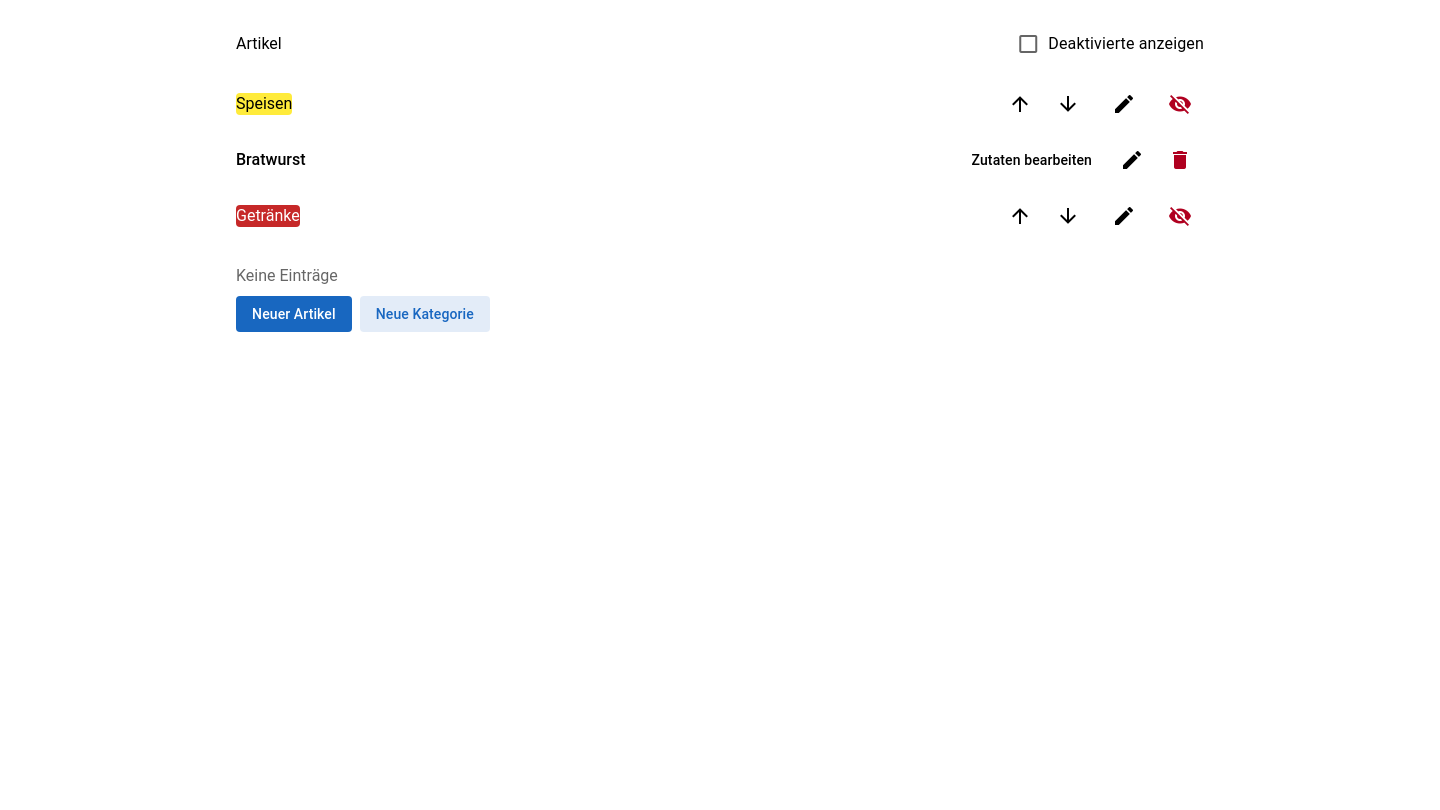
Test case: the controls beside a category name › ask before the category is switched off
Expected: the element with test id "category-section" that starts with "Speisen" is shown, [236,72,1204,184]
Click the 1st button with test id "deactivate-category".
click(1180, 104)  # box [1156,80,1204,128]
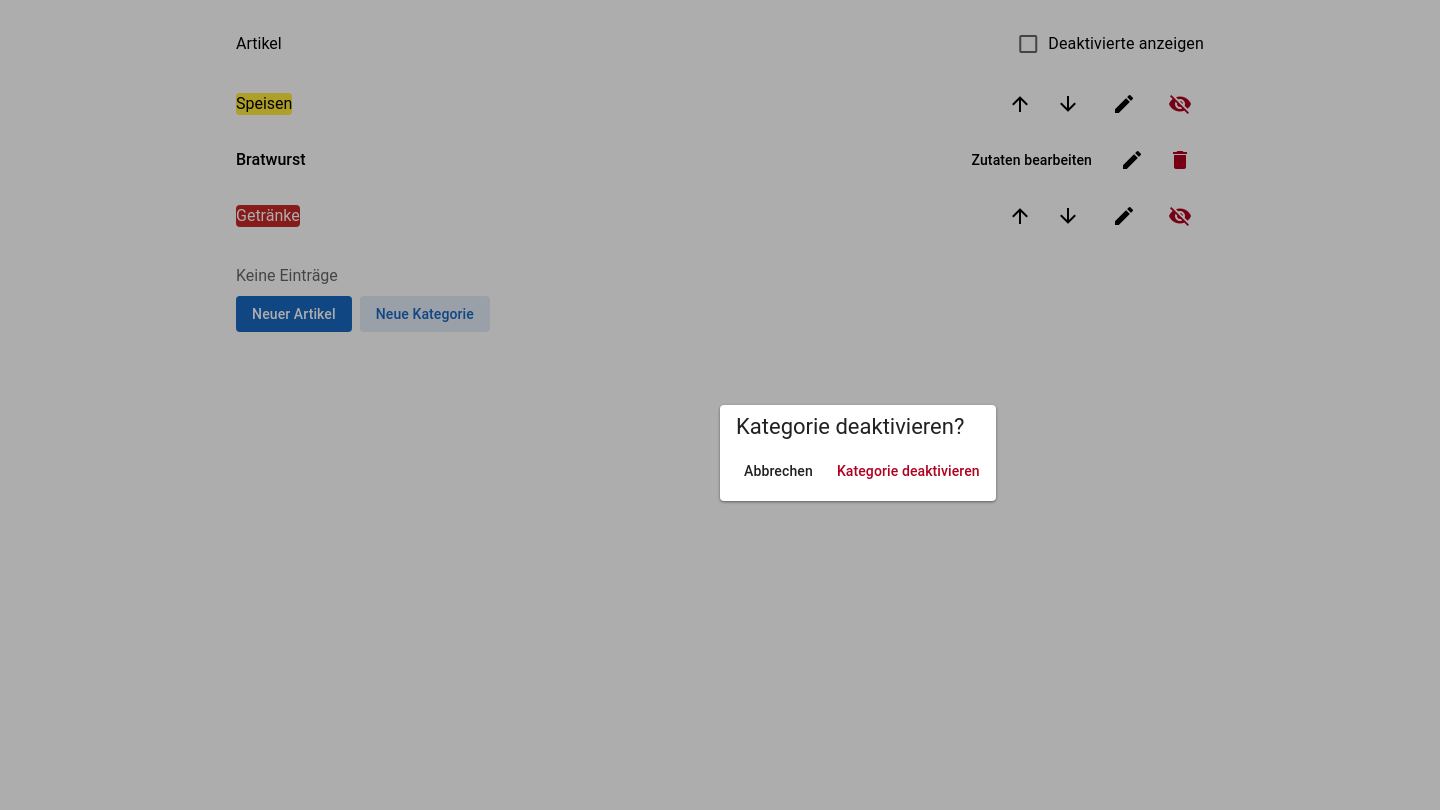
Expected: the element with test id "confirm-dialog" is shown, [720,405,996,501]
